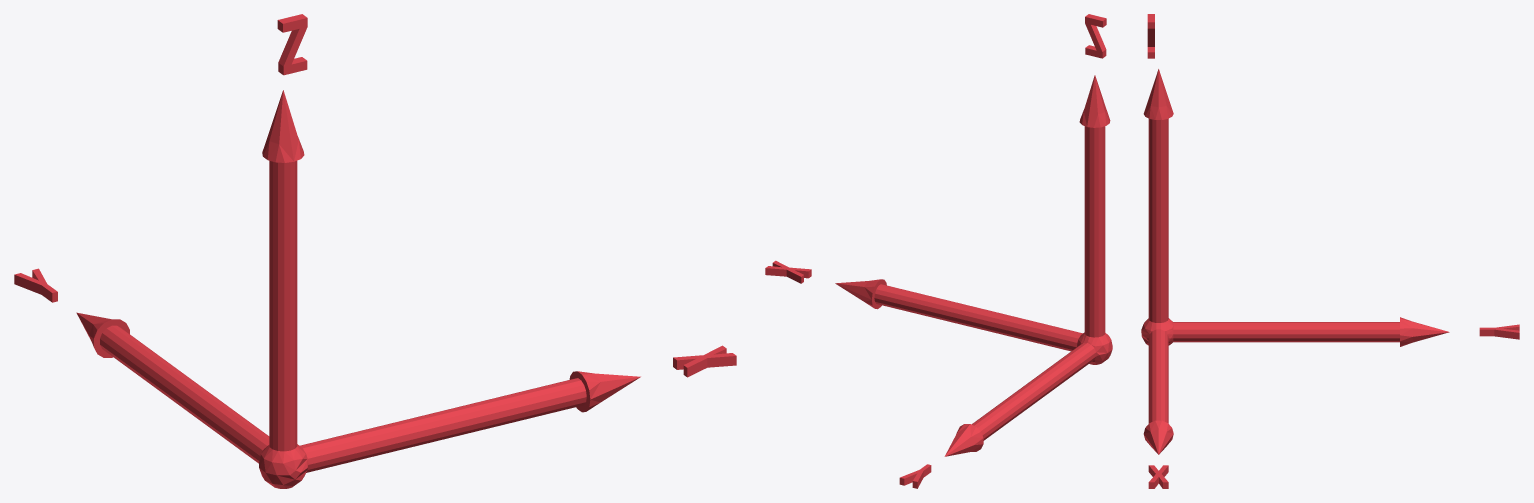
Rendered from XYZReference.fbx.
3 views of the same model, side by side, from view 1: azimuth 30°, elevation 25°; view 2: azimuth 150°, elevation 25°; view 3: azimuth 270°, elevation 25° (orthographic). The views are drawn at different scales.
Parts seen in each view (by area): view 1: gnomon-xyz; view 2: gnomon-xyz; view 3: gnomon-xyz.
Boxes of the visible parts, x1,y1,x2,y2 form: gnomon-xyz: [14, 14, 736, 488]; gnomon-xyz: [765, 14, 1112, 488]; gnomon-xyz: [1141, 14, 1519, 488].
Bounding box in the file's own units: 240 × 231 × 240.
